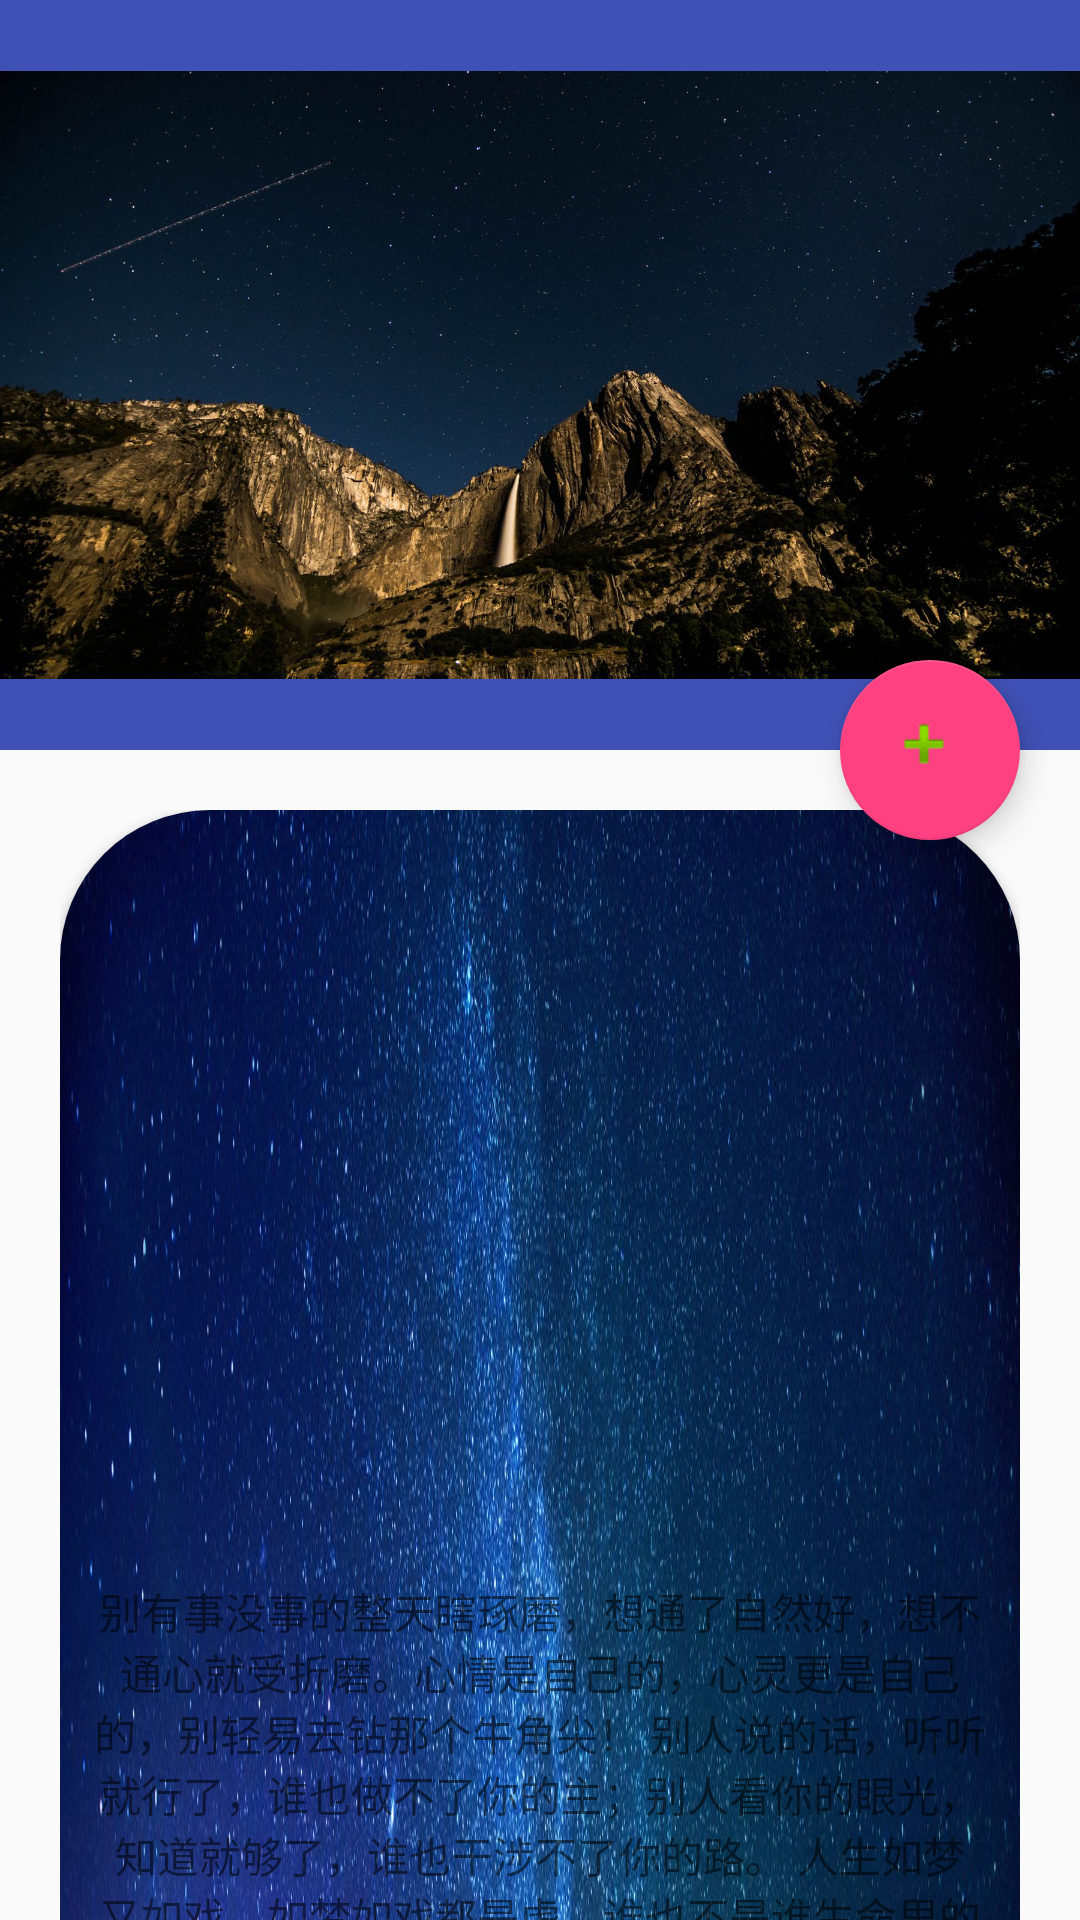

Icons on this 1080w x 1920h Android screen, each with the point to tap as (x,y):
add: (930,750)
